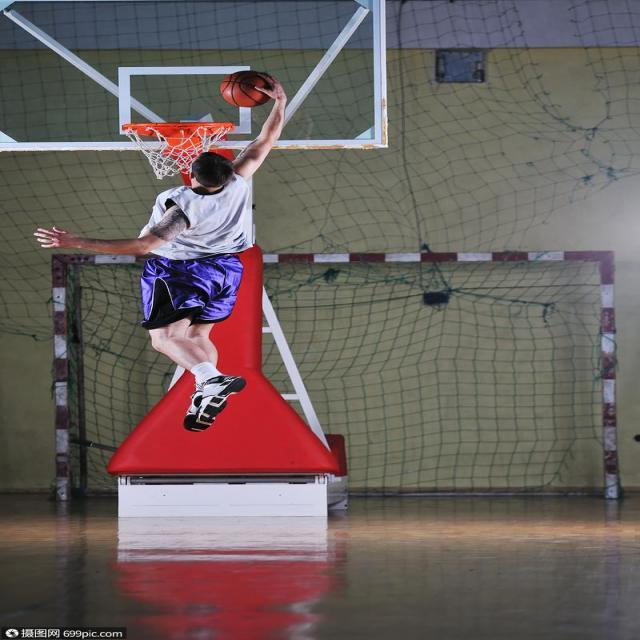rim: (216, 70, 276, 108)
